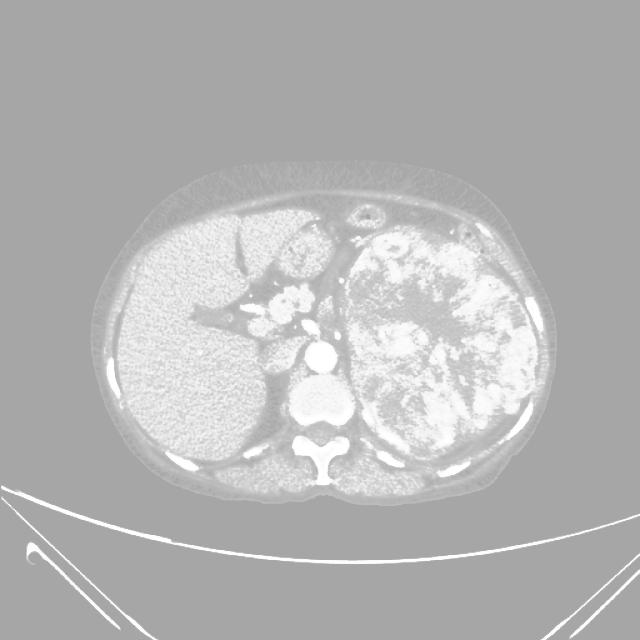TUMOR: (291, 193, 521, 435)
